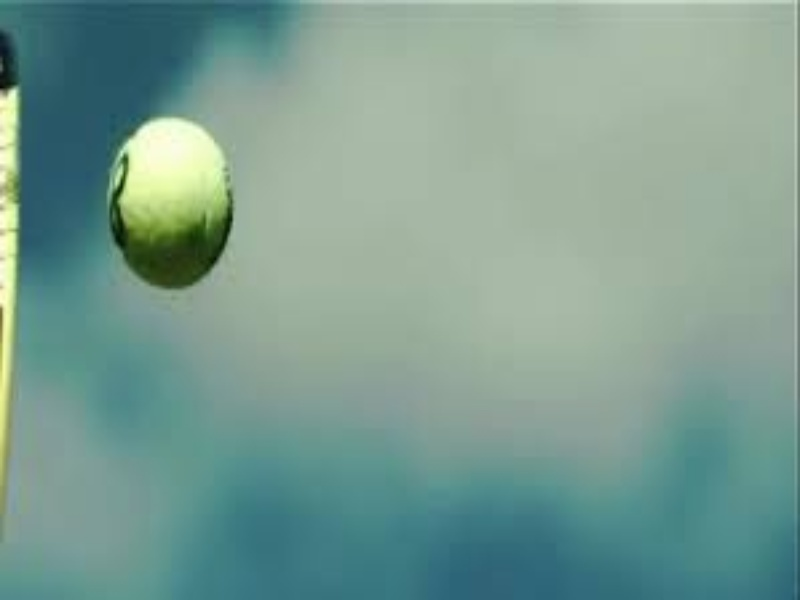tennis ball: (90, 108, 268, 299)
